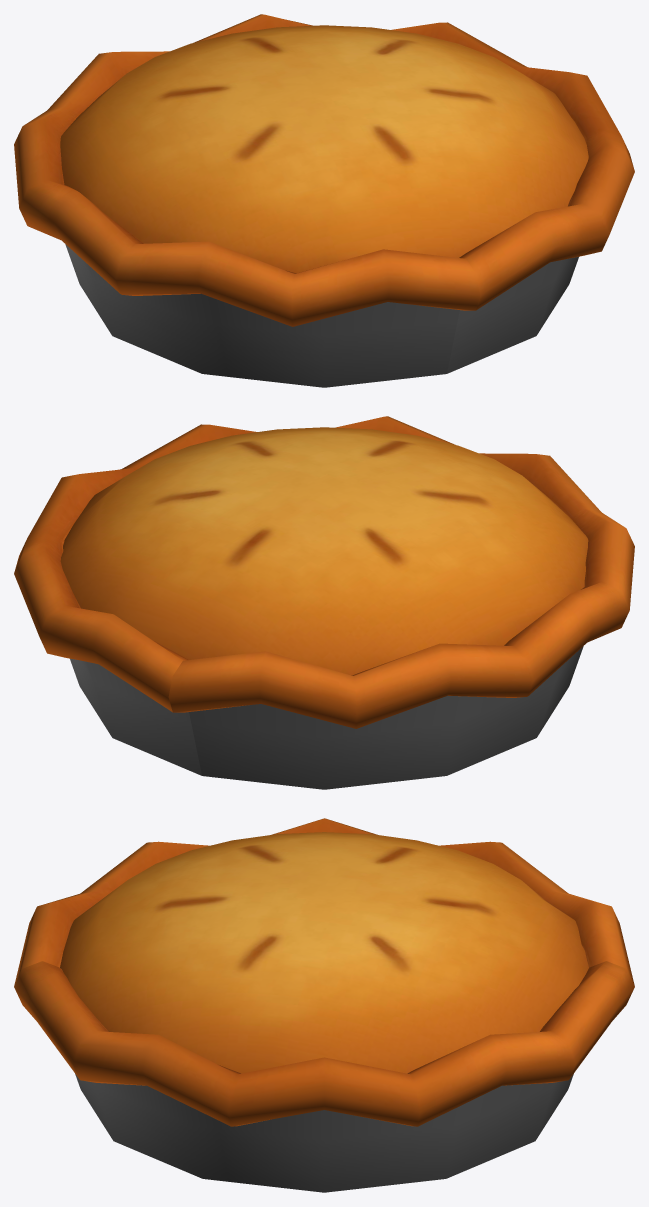
The model's file is Pie.fbx.
The picture shows the model from 3 angles, top to bottom: view 1: azimuth 30°, elevation 25°; view 2: azimuth 150°, elevation 25°; view 3: azimuth 270°, elevation 25°; orthographic projection.
Parts seen in each view (by area): view 1: Pie_1; view 2: Pie_1; view 3: Pie_1.
Boxes of the visible parts, bbox=[...] form: Pie_1: bbox=[14, 14, 634, 387]; Pie_1: bbox=[14, 416, 634, 789]; Pie_1: bbox=[14, 818, 634, 1192].
Bounding box in the file's own units: 88.29 × 30.98 × 88.29.
Materials: 1 (1 with a texture image).
